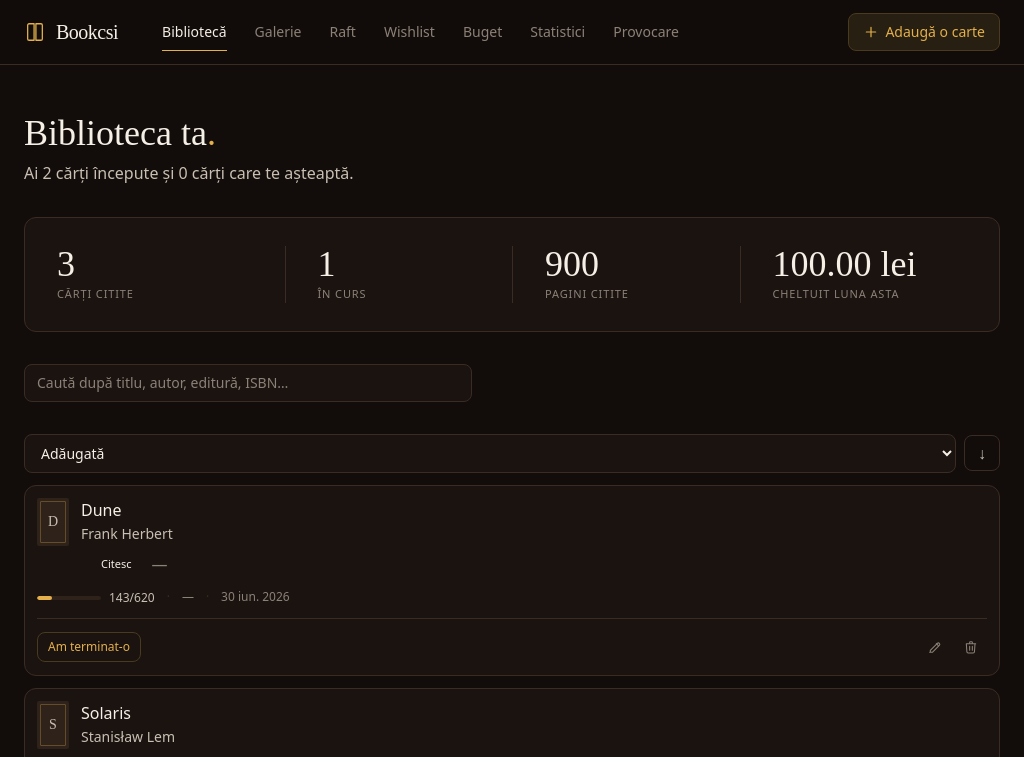
LibraryPage — search (§D42) › brings the books back when that message's button is pressed
Expected: the button "Dune" is shown, [81,498,122,522]
Type "zzzz" into the search field named "Caută în bibliotecă" at point(248, 382), box [24,364,472,402]
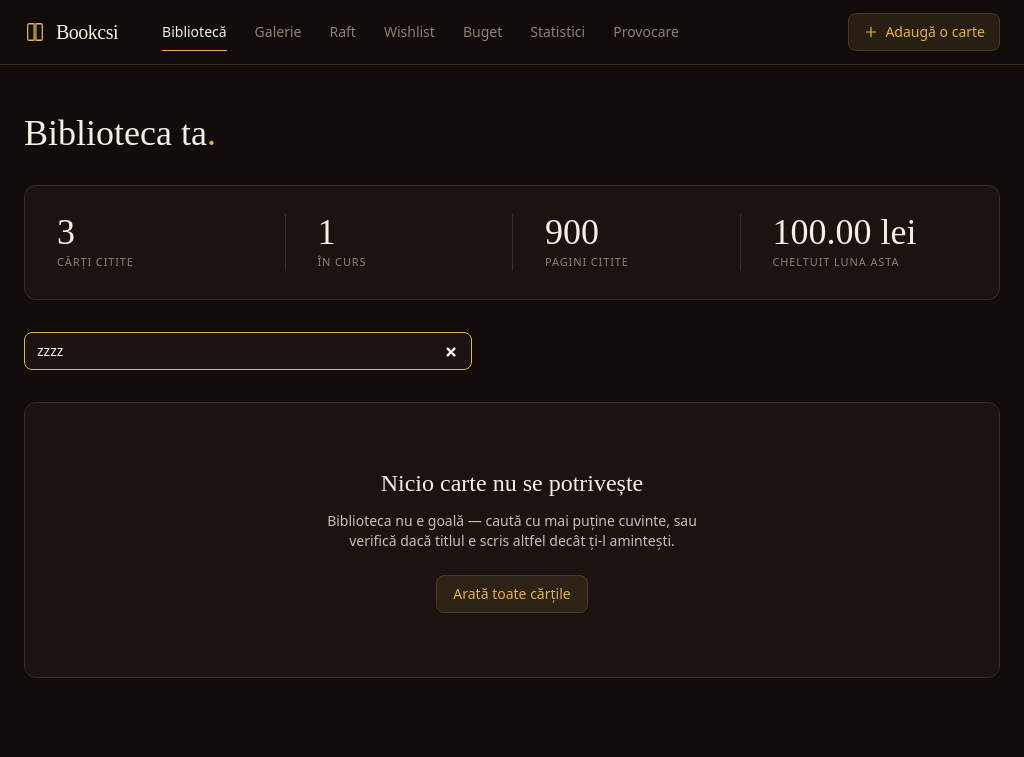
Expected: the text "Nicio carte nu se potrivește" is shown, [381,470,643,496]
Click the button "Arată toate cărțile" at point(512, 594), box [436,574,588,612]
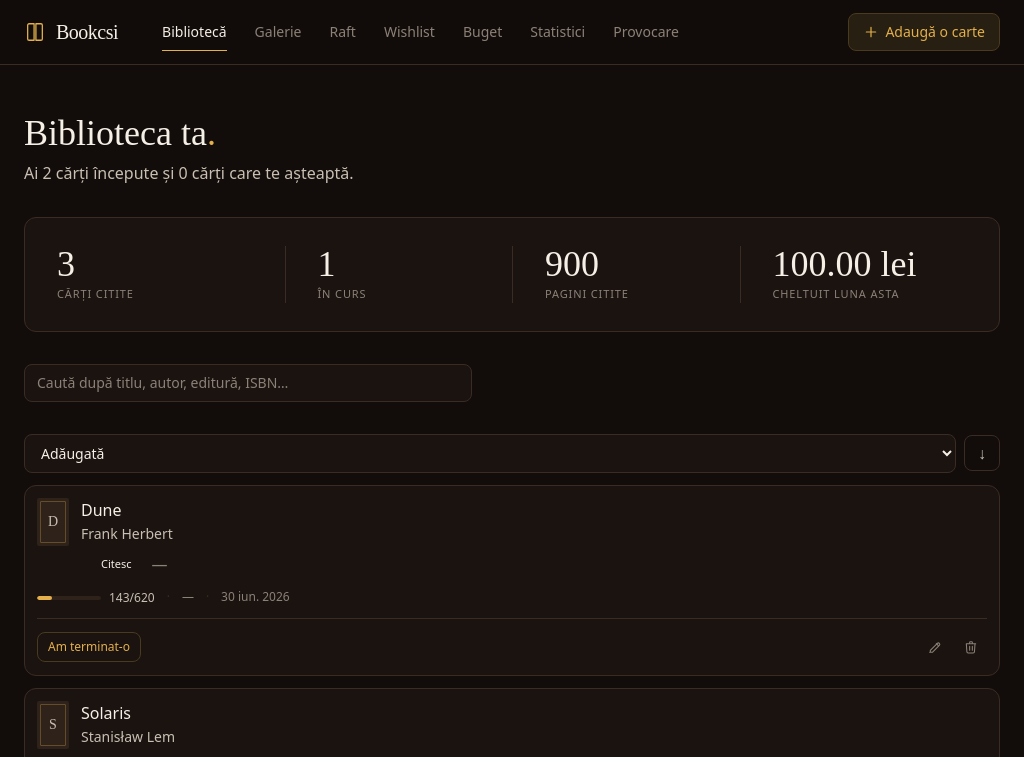
Expected: the button "Dune" is shown, [81,498,122,522]
Expected: the search field named "Caută în bibliotecă" is empty, [24,364,472,402]
